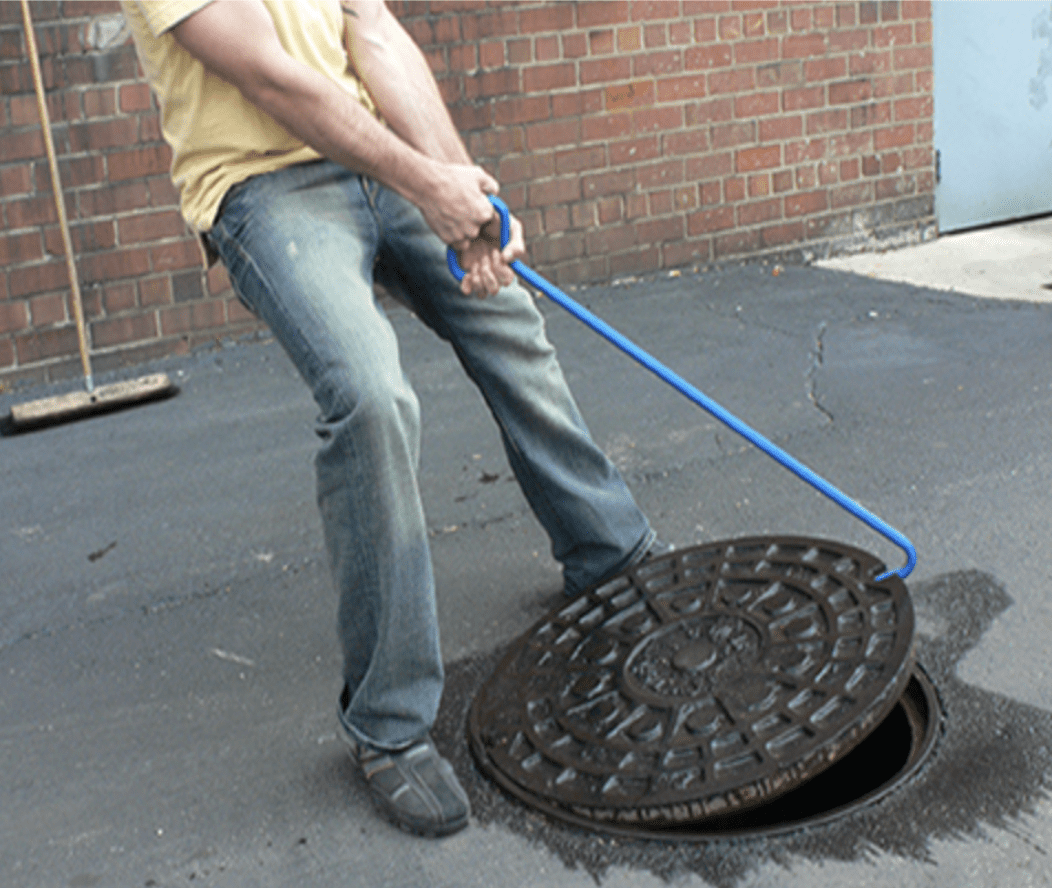Open_manhole: (355, 491, 979, 850)
